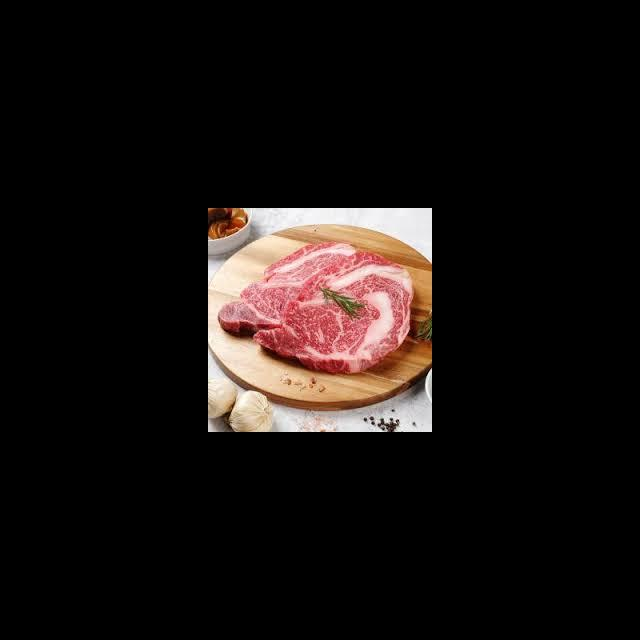beef: (217, 243, 416, 368)
